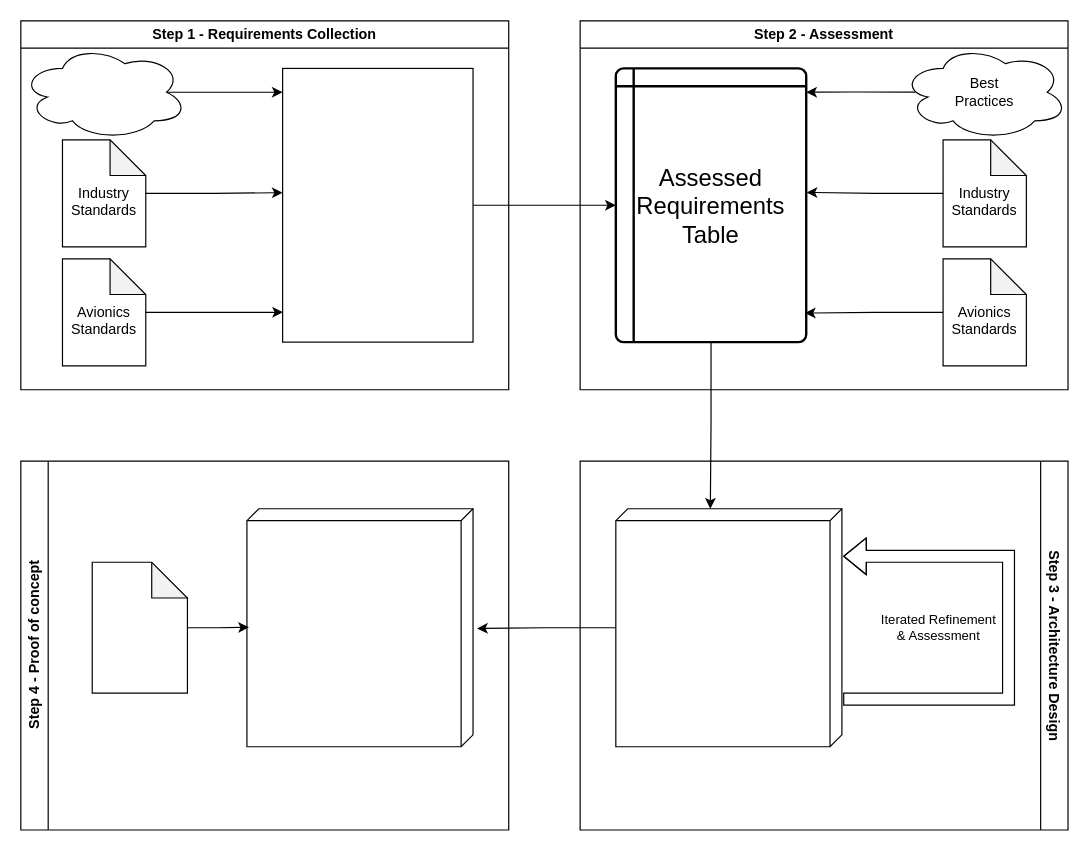
Some shapes in this 1089 by 851 pixel diagram are drawn without their labels. Each missing label, with the centre of its shape:
Architecture Model: (x=728, y=627)
Business Requirements Survey: (x=103, y=91)
Existing Monolithic Avionic Software: (x=139, y=627)
Requirements: (x=377, y=204)
SOA Avionic Software: (x=359, y=627)
